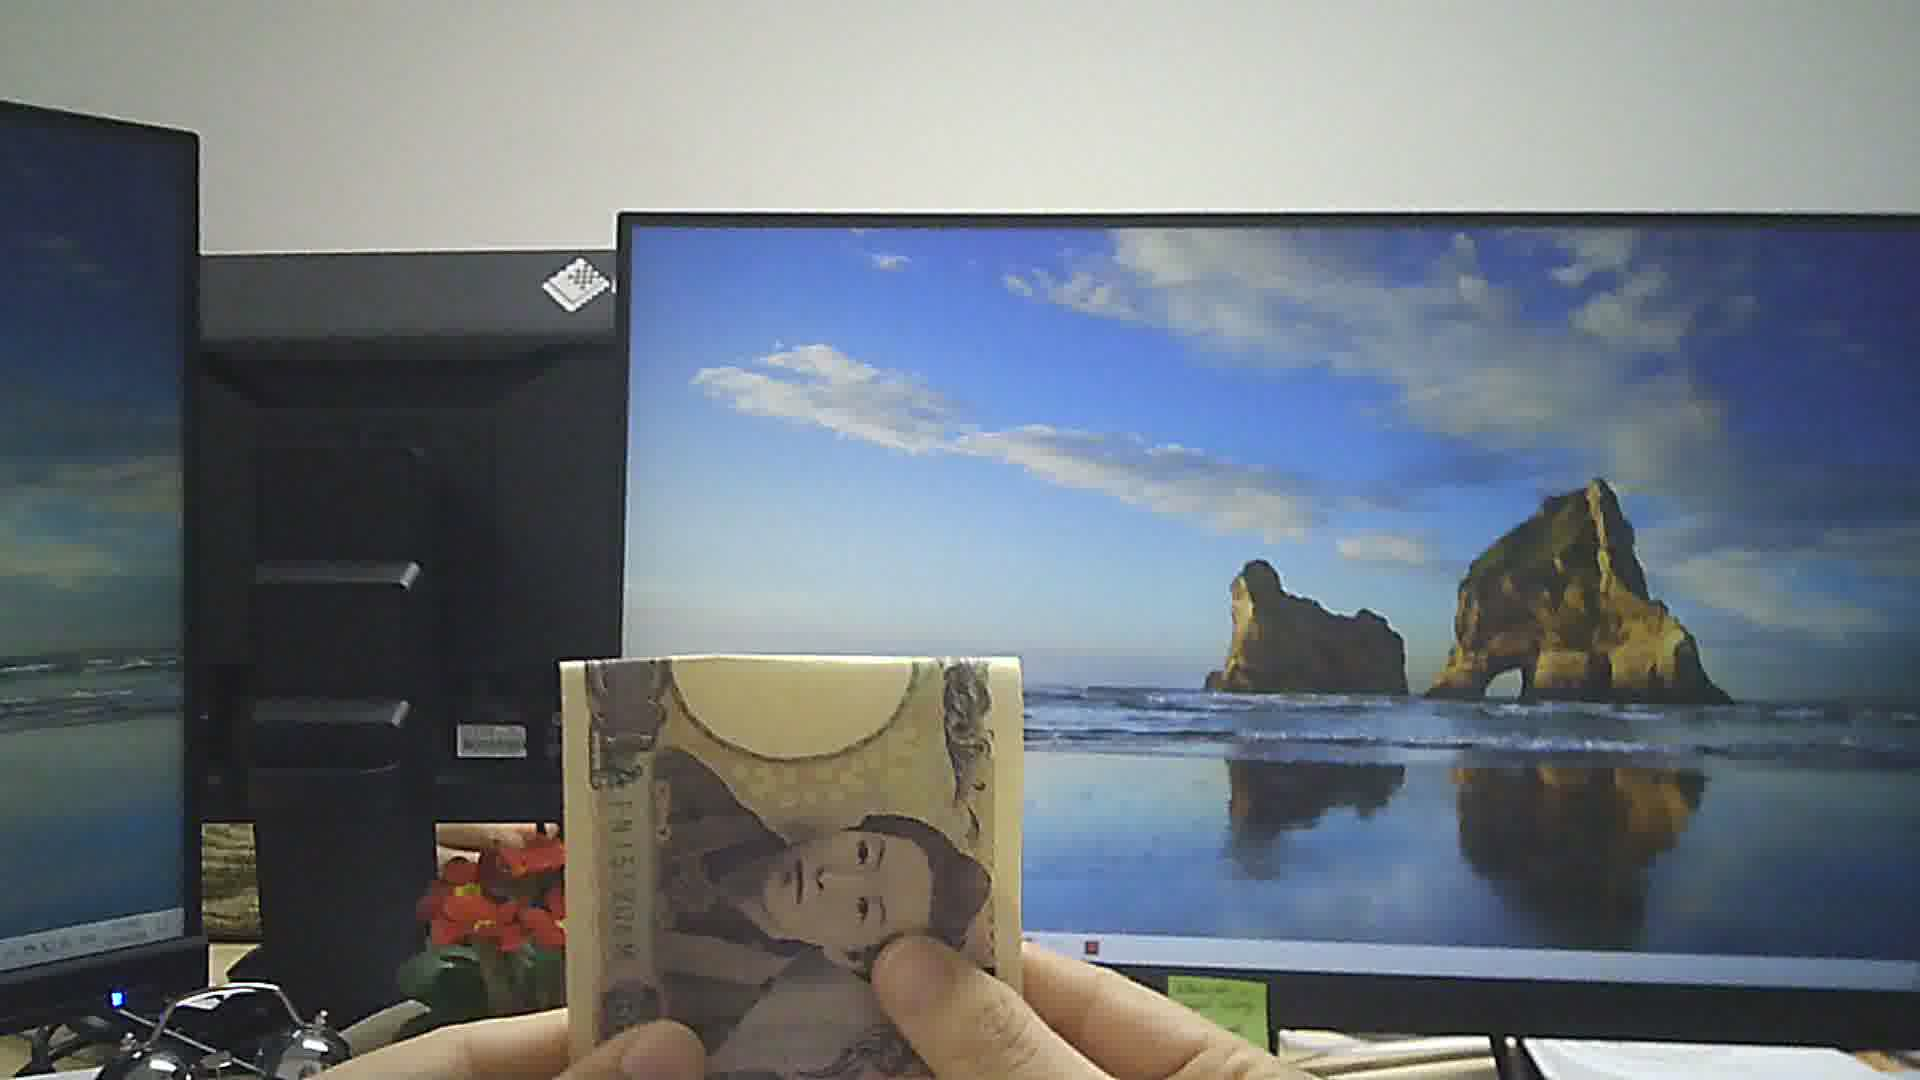5,000 Yen: (555, 632, 1029, 1060)
